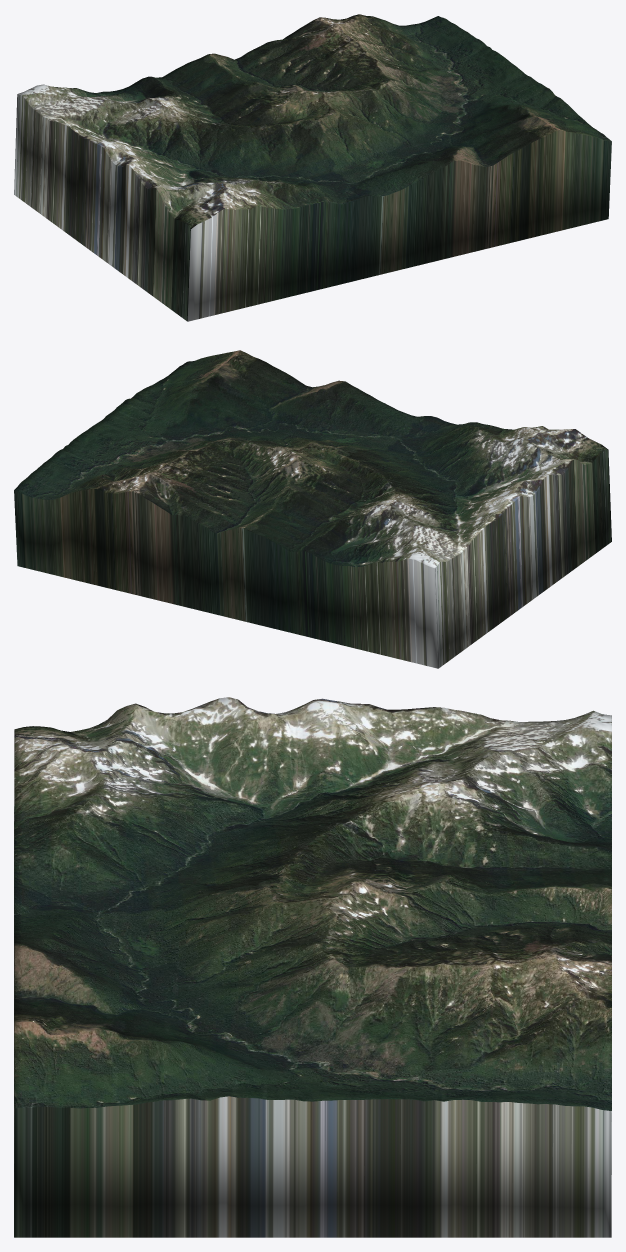
File: newfile.dae
3 views of the same model, one above another, from view 1: azimuth 30°, elevation 25°; view 2: azimuth 150°, elevation 25°; view 3: azimuth 270°, elevation 25° (orthographic). The views are drawn at different scales.
Parts seen in each view (by area): view 1: EXPORT_GOOGLE_SAT_WM; view 2: EXPORT_GOOGLE_SAT_WM; view 3: EXPORT_GOOGLE_SAT_WM.
Boxes of the visible parts, <box> form: EXPORT_GOOGLE_SAT_WM: <box>14,14,611,321</box>; EXPORT_GOOGLE_SAT_WM: <box>14,350,611,668</box>; EXPORT_GOOGLE_SAT_WM: <box>14,697,611,1237</box>.
Size of the model in its own units: 17259 by 12237 by 4286.
1 material, 1 textured.
